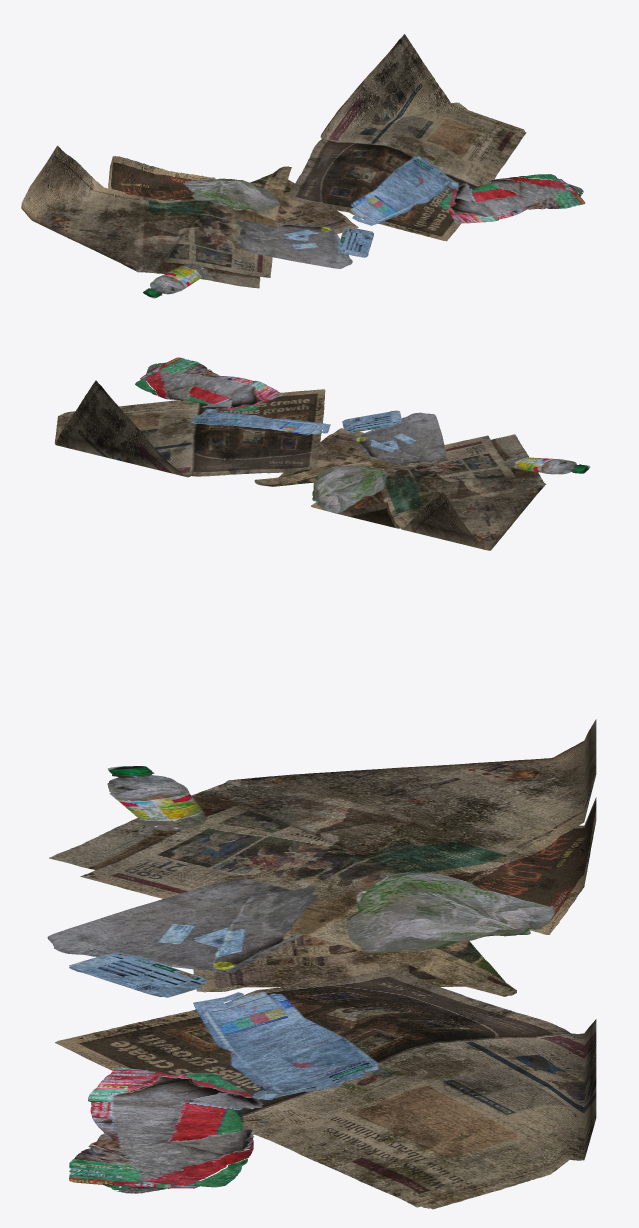
The model's file is 3D_Decal_07.fbx.
3 views of the same model, one above another, from view 1: azimuth 30°, elevation 25°; view 2: azimuth 150°, elevation 25°; view 3: azimuth 270°, elevation 25° (orthographic). The views are drawn at different scales.
Visible parts, largest first — view 1: THREED_Decal; view 2: THREED_Decal; view 3: THREED_Decal.
Boxes of the visible parts, <box> form: THREED_Decal: <box>21,34,585,298</box>; THREED_Decal: <box>54,357,590,550</box>; THREED_Decal: <box>47,719,596,1209</box>.
Size of the model in its own units: 2.42 by 0.4172 by 1.23.
